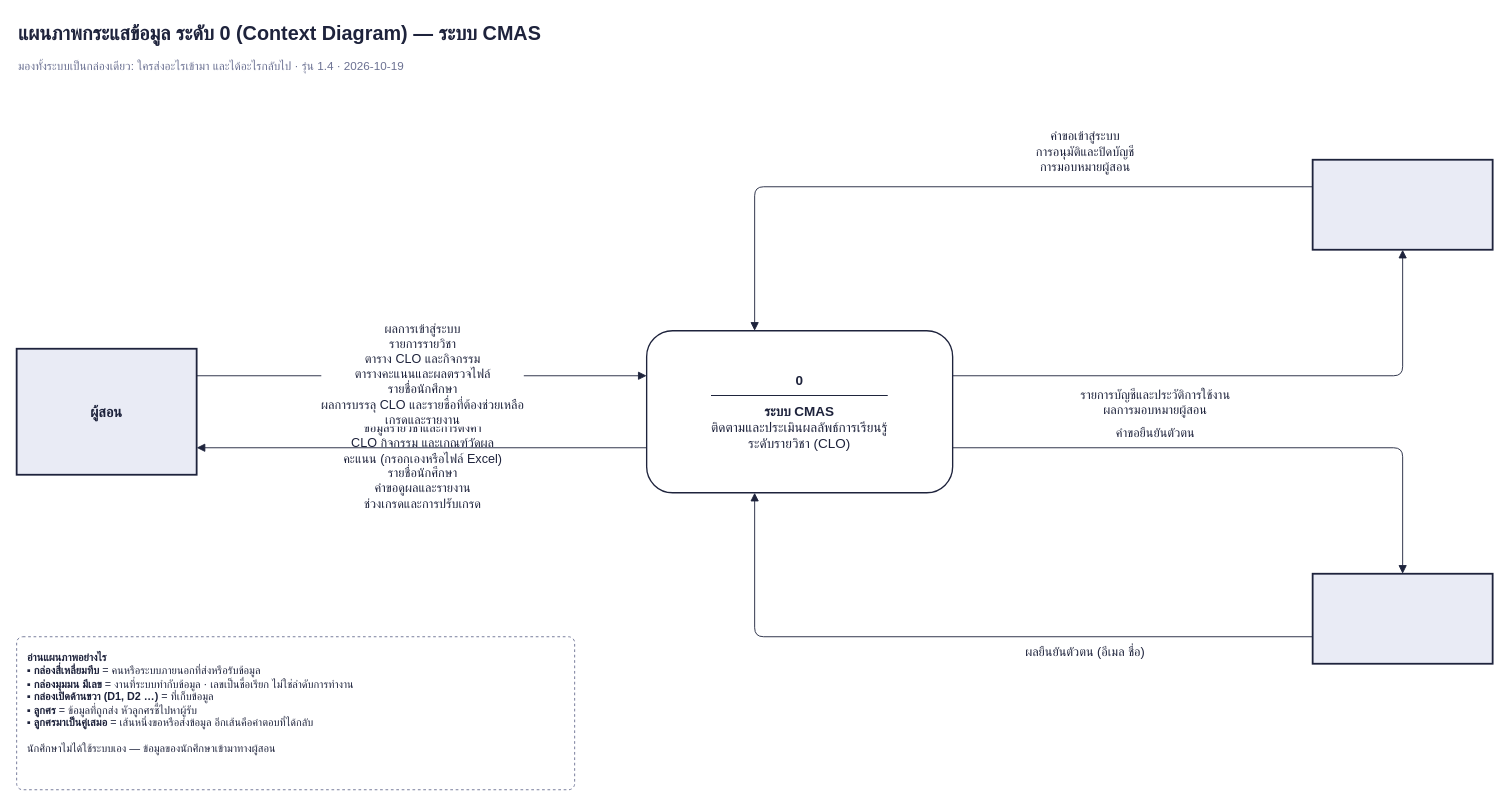
This 1508x806 diagram has some shape labels left out. The shapes that lost their labels are listed below. From the top down, each one's centre as x and y in pixels, then its label:
(x=1402, y=204): ผู้ดูแลระบบ
(x=1402, y=618): Google บริการยืนยันตัวตน
